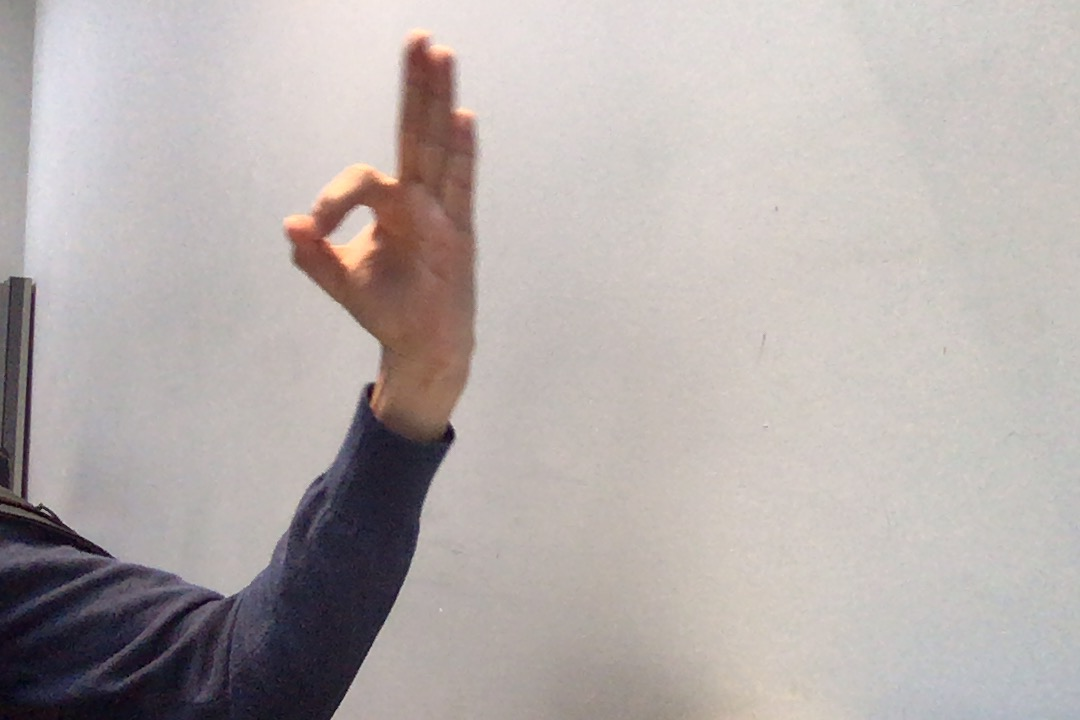oksign: (267, 21, 498, 373)
